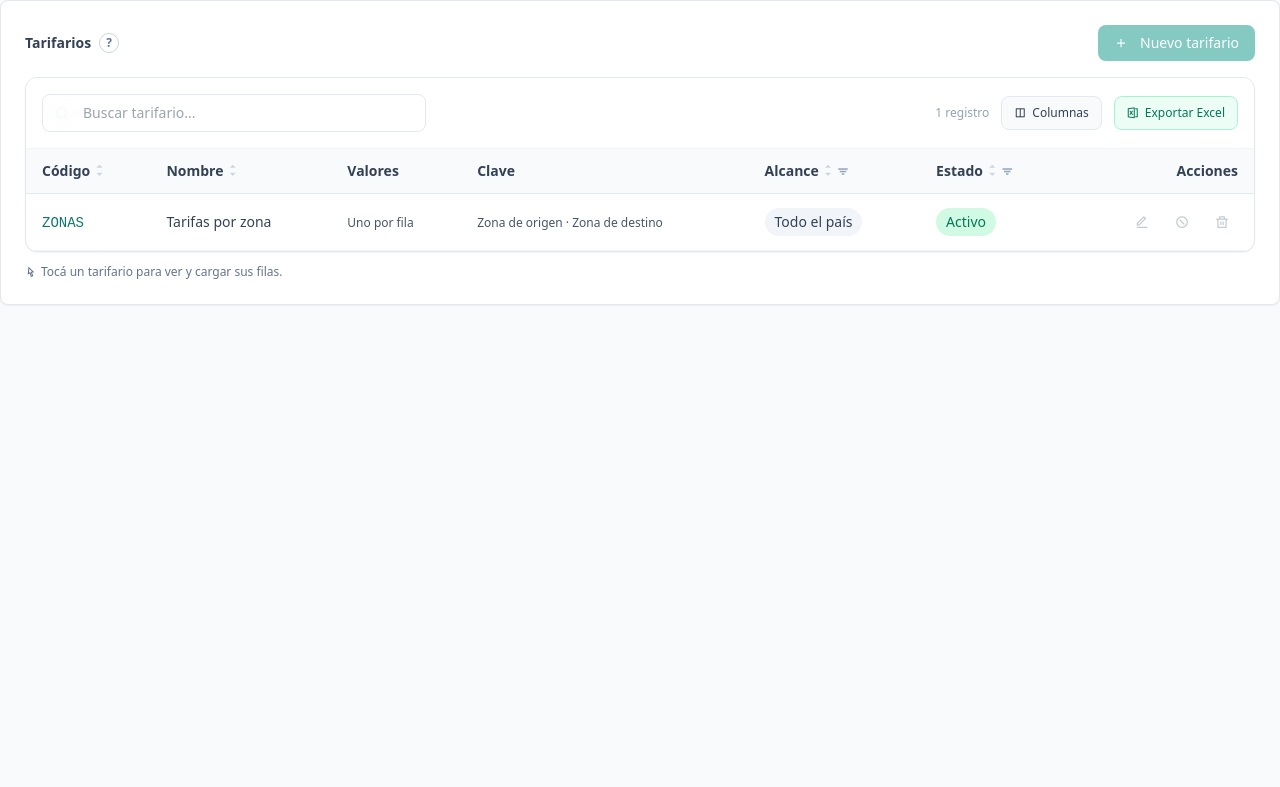
TarifariosTab (caracterización) › sin permisos los botones se bloquean y lo explican
Expected: the button titled "Tu rol no puede eliminar tarifarios" is disabled, [1206,206,1238,238]
Click the text "ZONAS": (63, 222) [42,214,84,230]
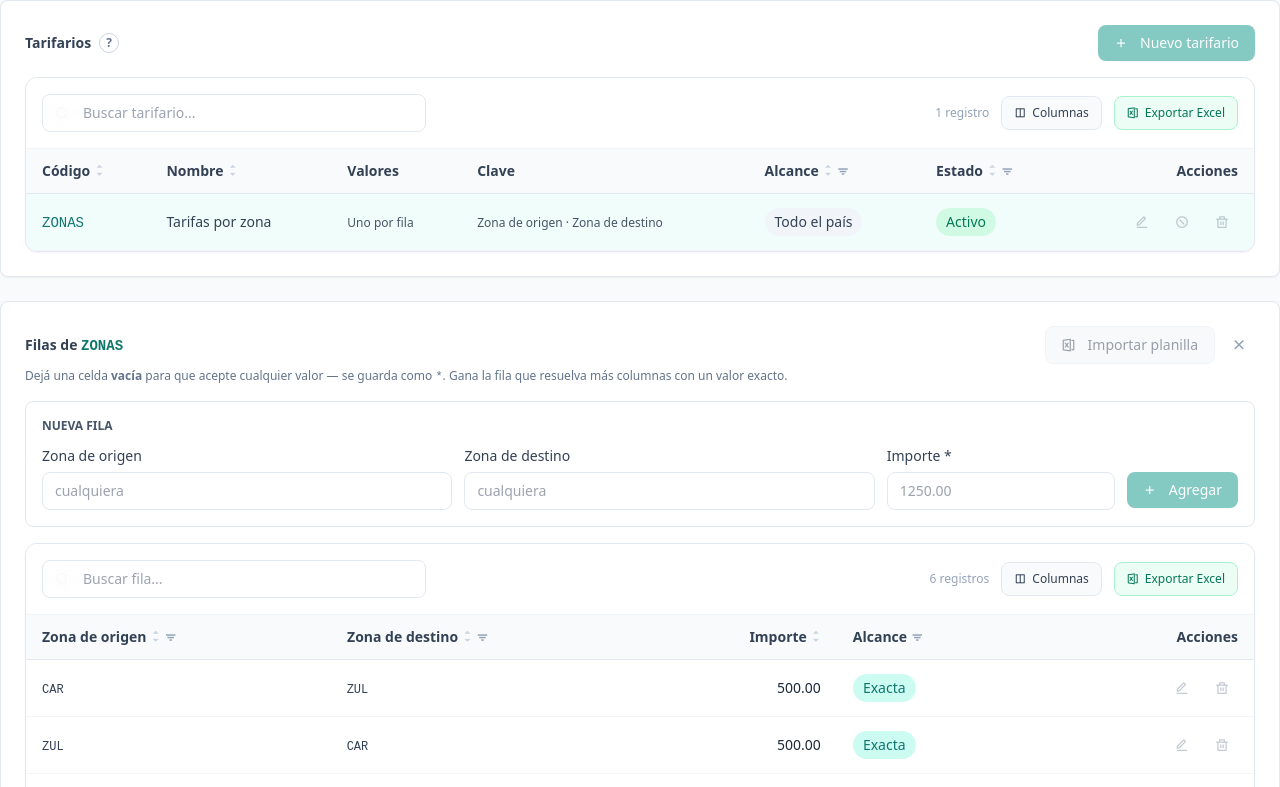
Result: the heading "Filas de ZONAS" is shown at [25,334,123,356]
Result: the number of buttons titled "Tu rol no puede eliminar filas" is 6
Result: the number of buttons titled "Tu rol no puede editar tarifarios" is 6
